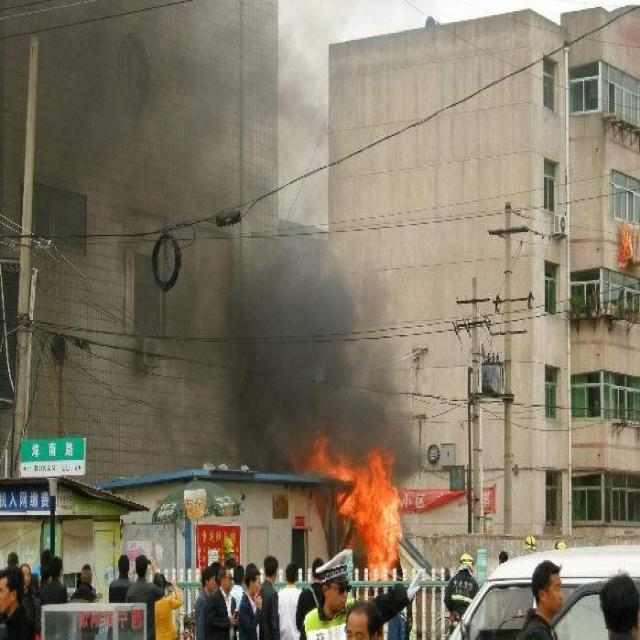fire: (310, 434, 404, 575), (614, 217, 638, 264)
smoke: (3, 4, 414, 477)
